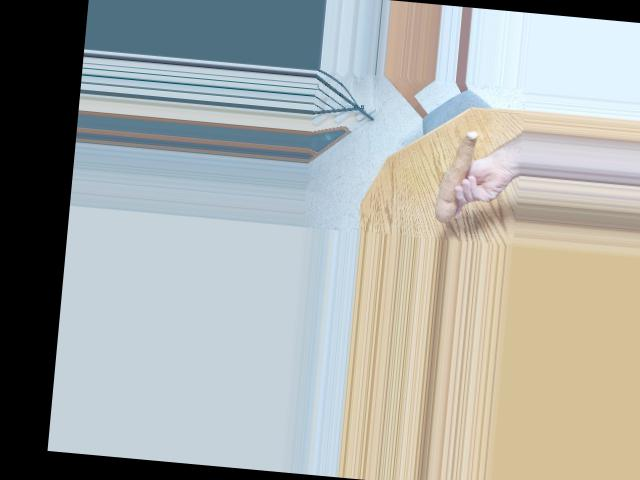sweet_potato: (429, 125, 481, 221)
